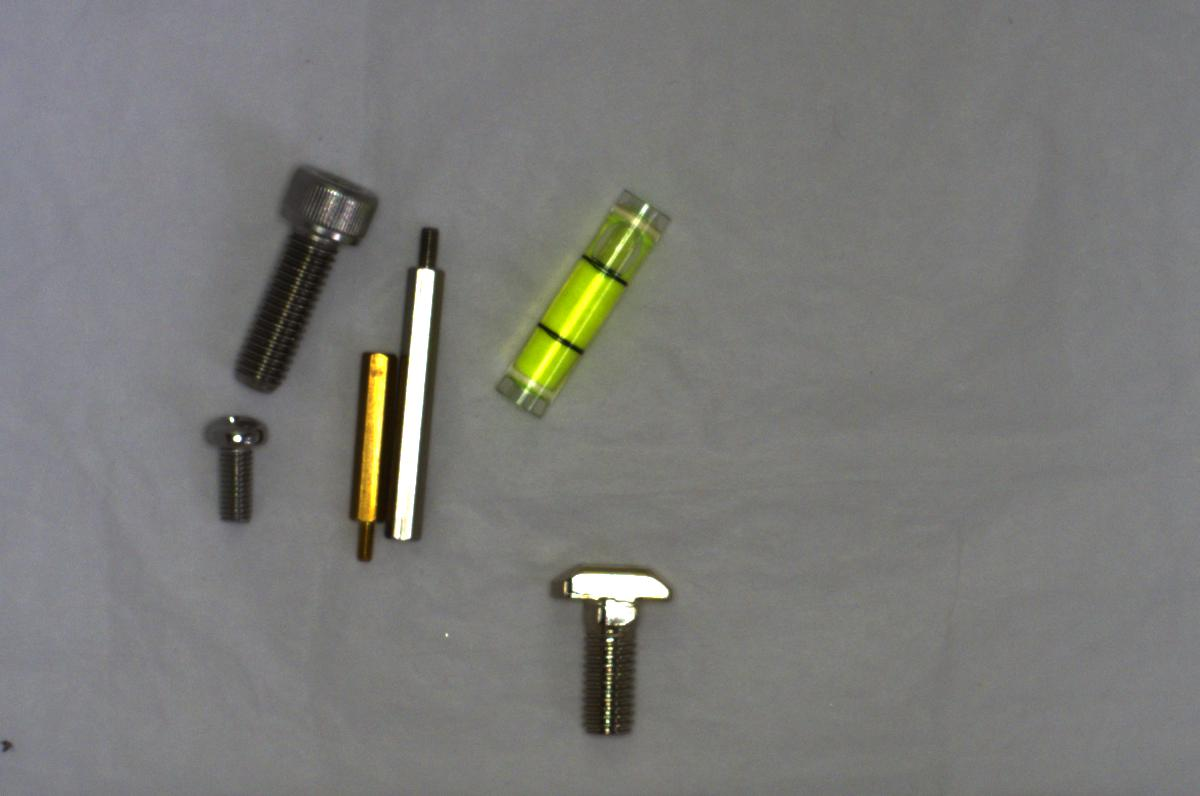Hexagon pillar: (344, 345, 394, 562)
Hexagon screw: (234, 154, 377, 393)
Hexagonal steel column: (387, 225, 447, 545)
Horizontal bubble: (482, 182, 672, 421)
Round head screw: (200, 407, 270, 529)
T-shaped screw: (538, 554, 670, 742)
